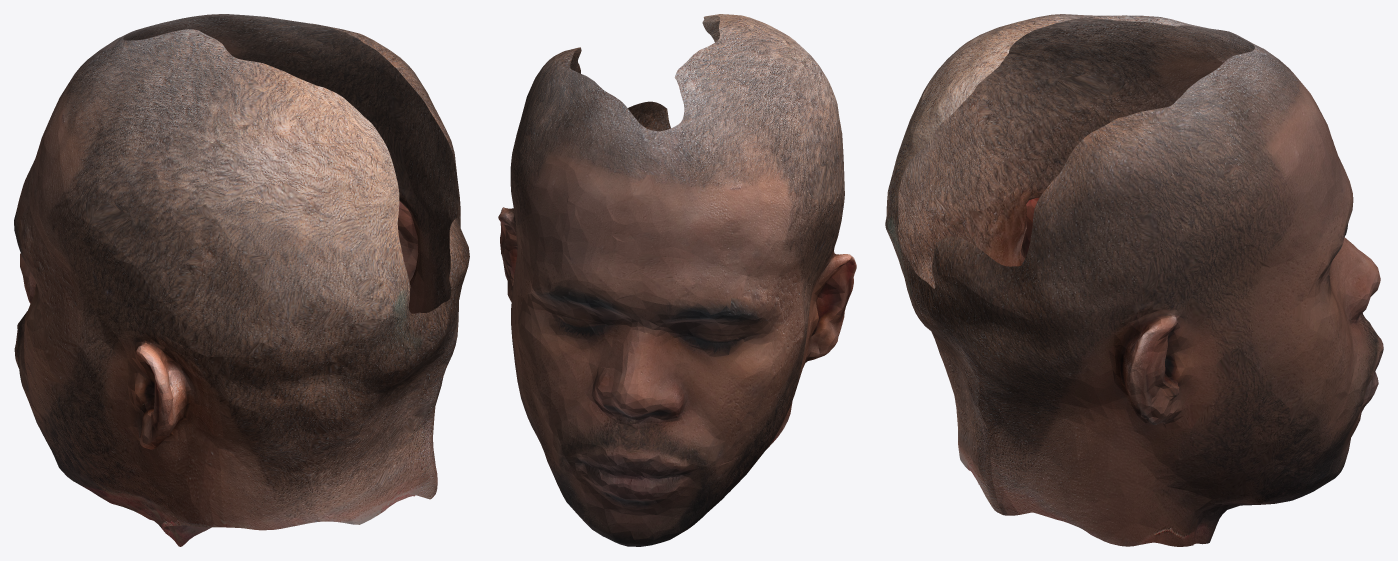
The model's file is BUSTO.obj.
3 renders of one model, left to right at view 1: azimuth 30°, elevation 25°; view 2: azimuth 150°, elevation 25°; view 3: azimuth 270°, elevation 25°, orthographic. The views are drawn at different scales.
Visible parts, largest first — view 1: Scan_61_PP; view 2: Scan_61_PP; view 3: Scan_61_PP.
Part boxes in pixels (x1,y1,x2,y2): Scan_61_PP: (14,14,469,546); Scan_61_PP: (498,14,856,546); Scan_61_PP: (885,14,1383,546).
Size of the model in its own units: 3.28 by 4.64 by 4.14.
